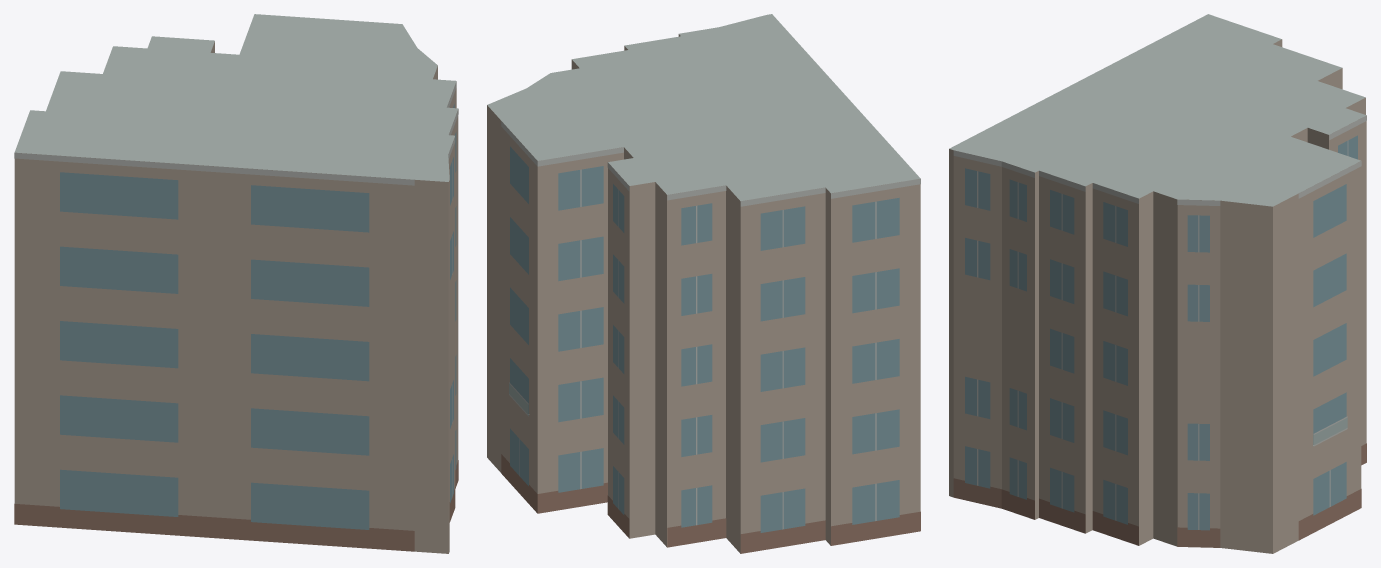
File: survey-upis-32735754.glb
3 views of the same model, side by side, from view 1: azimuth 30°, elevation 25°; view 2: azimuth 150°, elevation 25°; view 3: azimuth 270°, elevation 25° (orthographic). The views are drawn at different scales.
Parts seen in each view (by area): view 1: survey-upis-32735754.tmp; view 2: survey-upis-32735754.tmp; view 3: survey-upis-32735754.tmp.
Part boxes in pixels (box(x1,y1,x2,y2)): survey-upis-32735754.tmp: box(14, 14, 458, 553); survey-upis-32735754.tmp: box(487, 14, 920, 553); survey-upis-32735754.tmp: box(949, 14, 1366, 553).
Bounding box in the file's own units: 18.32 × 15.4 × 16.79.
